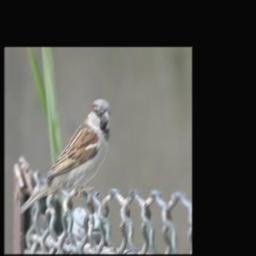Sparrow: (18, 98, 111, 217)
